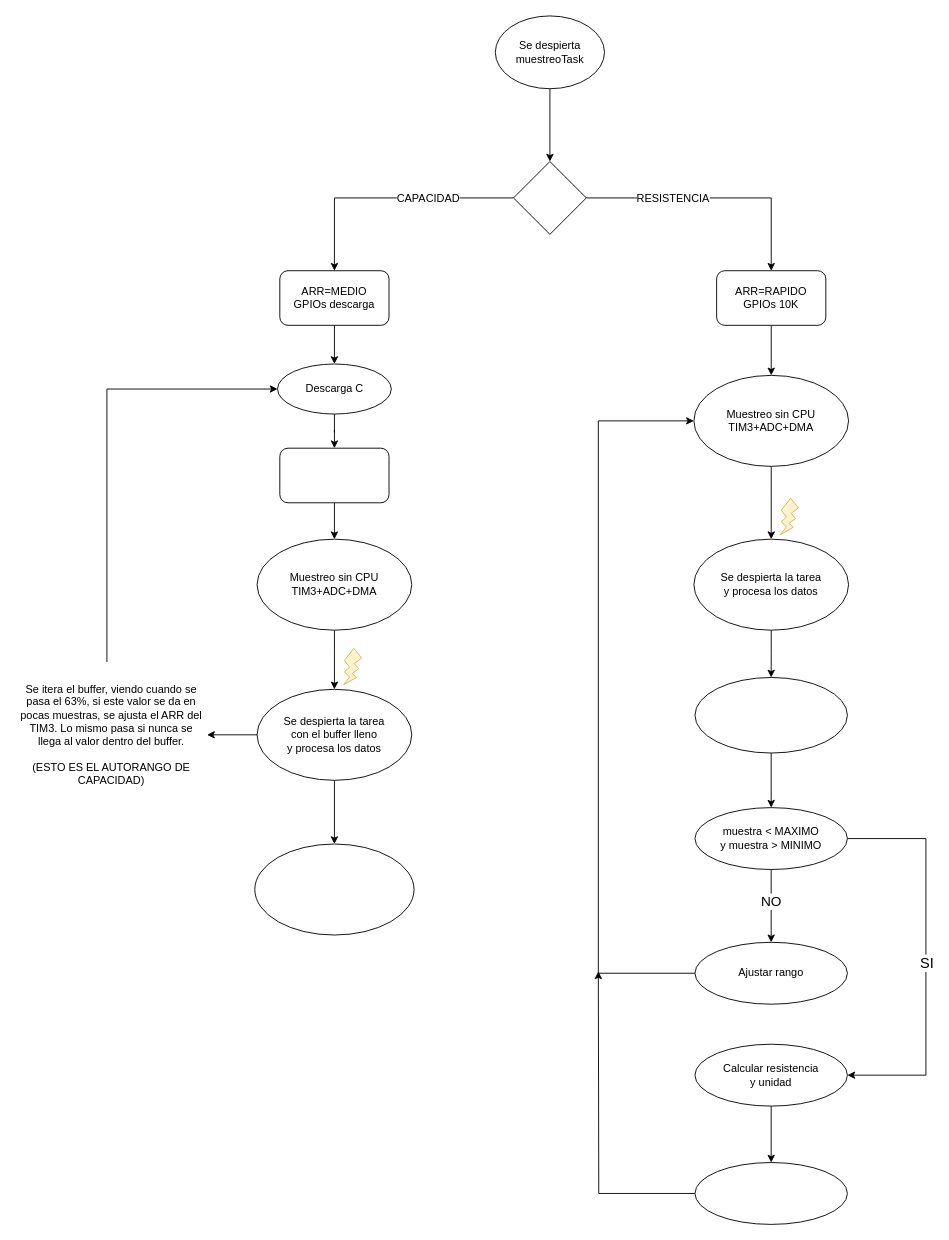
The diagram is 949 pixels wide and 1240 high, and some of its shapes have lost their labels. Here are the shapes that lost their labels. From the top down, the box of each, then its label:
(513, 161, 586, 234): MODO
(279, 447, 389, 503): Configurar GPIOs para carga
(694, 677, 847, 753): muestra=SUM(buffer)/16
(254, 843, 414, 935): Se calcula la capacidad Y se envía a MuestreoQueue
(694, 1162, 847, 1224): Enviar datos a MuestreoQueue
